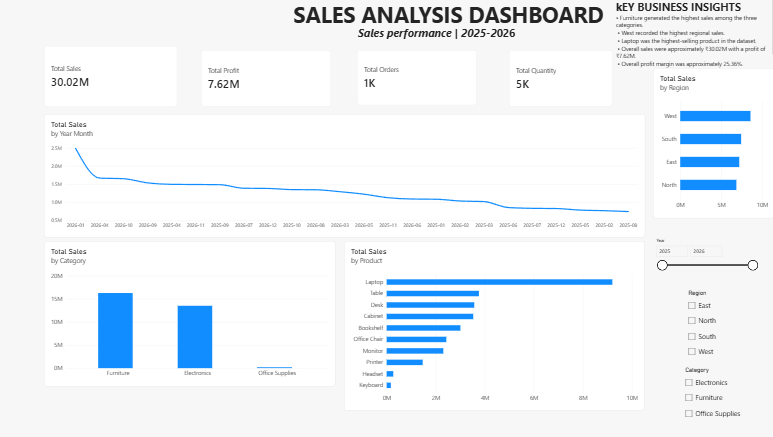

What the dashboard file says about the page in this screenshot:
{"tool":"powerbi","page":{"name":"Sales Analysis","canvas":[1920,1080],"ordinal":0},"visuals":[{"type":"cardVisual","fields":{"Data":["DateTable.Total Profit"]},"box":[506,126,320,140],"z":1},{"type":"cardVisual","fields":{"Data":["DateTable.Total Orders"]},"box":[892,126,294,136],"z":2},{"type":"cardVisual","fields":{"Data":["DateTable.Total Quantity"]},"box":[1266,126,254,140],"z":3},{"type":"lineChart","fields":{"Category":["DateTable.Year Month"],"Y":["DateTable.Total Sales"]},"box":[120,282,1480,304],"z":4},{"type":"clusteredColumnChart","fields":{"Category":["Sales.Category"],"Y":["DateTable.Total Sales"]},"box":[120,596,718,358],"z":5},{"type":"clusteredBarChart","fields":{"Category":["Sales.Product"],"Y":["DateTable.Total Sales"]},"box":[860,596,740,418],"z":7},{"type":"slicer","fields":{"Values":["DateTable.Year"]},"box":[1620,587.5,262.5,112.5],"z":8},{"type":"slicer","fields":{"Values":["Sales.Region"]},"box":[1697.5,717.5,139.1,171.7],"z":9},{"type":"slicer","fields":{"Values":["Sales.Category"]},"box":[1690,905,158.7,147.8],"z":10},{"type":"textbox","box":[648,0,952,72],"z":11},{"type":"textbox","box":[782,64,616,42],"z":12},{"type":"cardVisual","fields":{"Data":["DateTable.Total Sales"]},"box":[120,116,328,150],"z":13},{"type":"clusteredBarChart","fields":{"Category":["Sales.Region"],"Y":["DateTable.Total Sales"]},"box":[1620,170,300,370],"z":14},{"type":"textbox","box":[1527.5,0,392.5,175],"z":15}]}

Visuals, with their boxes in screenshot pixels (x1, y1, x2, y2), scaled from the page's 1920x1080 canvas onto the 773x437 screenshot:
cardVisual - DateTable.Total Profit: Rect(204, 51, 333, 108)
cardVisual - DateTable.Total Orders: Rect(359, 51, 477, 106)
cardVisual - DateTable.Total Quantity: Rect(510, 51, 612, 108)
lineChart - DateTable.Year Month x DateTable.Total Sales: Rect(48, 114, 644, 237)
clusteredColumnChart - Sales.Category x DateTable.Total Sales: Rect(48, 241, 337, 386)
clusteredBarChart - Sales.Product x DateTable.Total Sales: Rect(346, 241, 644, 410)
slicer - DateTable.Year: Rect(652, 238, 758, 283)
slicer - Sales.Region: Rect(683, 290, 739, 360)
slicer - Sales.Category: Rect(680, 366, 744, 426)
textbox: Rect(261, 0, 644, 29)
textbox: Rect(315, 26, 563, 43)
cardVisual - DateTable.Total Sales: Rect(48, 47, 180, 108)
clusteredBarChart - Sales.Region x DateTable.Total Sales: Rect(652, 69, 772, 218)
textbox: Rect(615, 0, 772, 71)
